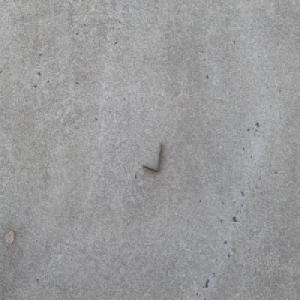MetalPart: (142, 139, 163, 172)
